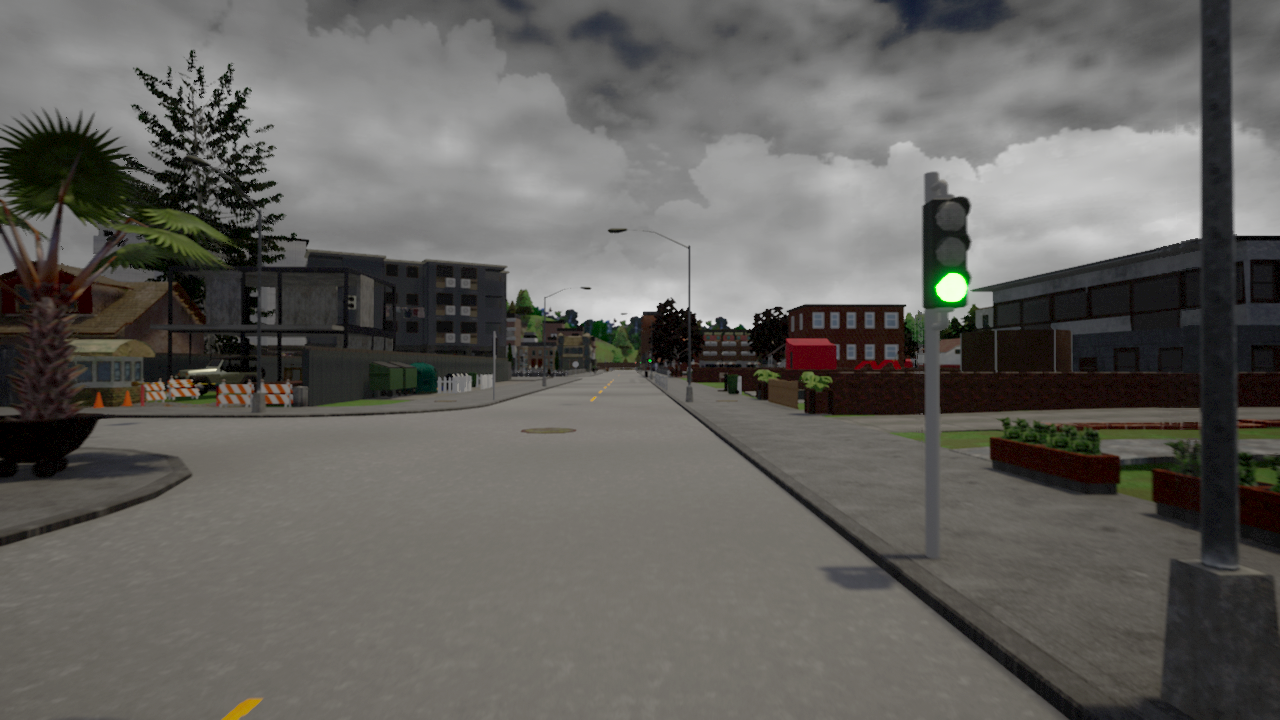green: (922, 199, 974, 312)
